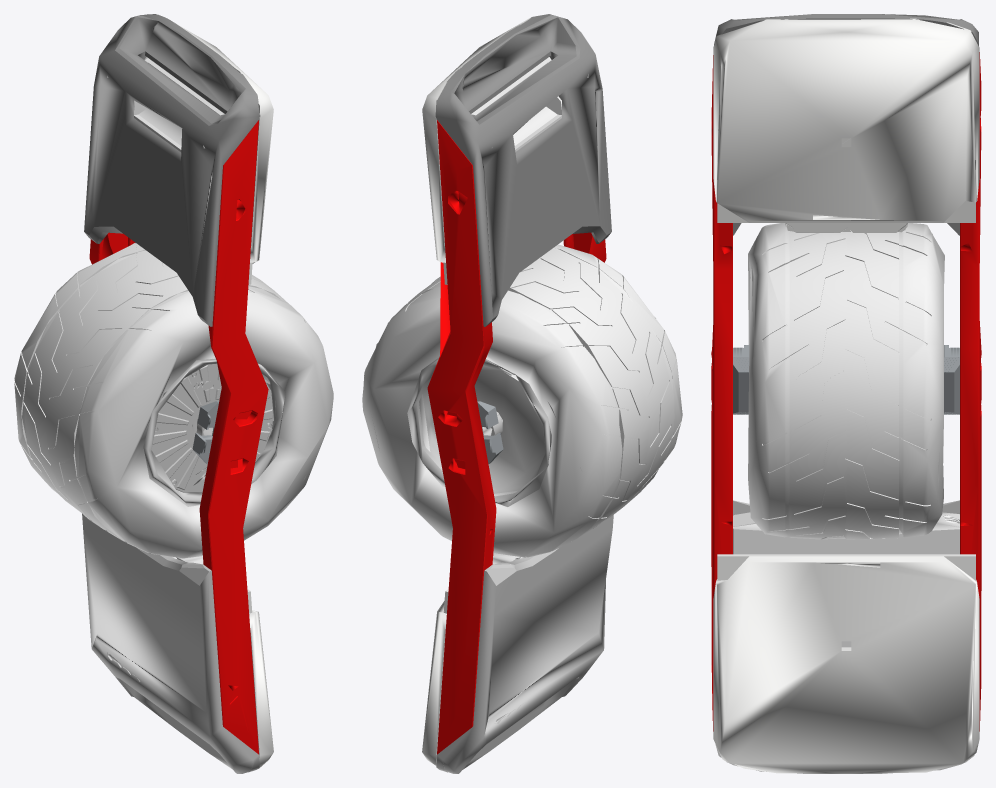
The model's file is x7_board.glb.
The picture shows the model from 3 angles, left to right: view 1: azimuth 30°, elevation 25°; view 2: azimuth 150°, elevation 25°; view 3: azimuth 270°, elevation 25°; orthographic projection. The views are drawn at different scales.
Parts seen in each view (by area): view 1: QDIY Thunder tire rough cad-1, Pjötr diy front DANG bumper model-1, X7 rail Left-1, qdiy rear dang bumper final touches needed-1, Superflux-1, 2025-09-29_stompie_front-2, qdiy stompie rear-1, V1 qdiy fungineers funwheel X7 Front Controller Box SOLIDWOR, New Mount SF-2, X7 rail Right-1; view 2: QDIY Thunder tire rough cad-1, Pjötr diy front DANG bumper model-1, X7 rail Right-1, qdiy rear dang bumper final touches needed-1, Superflux-1, 2025-09-29_stompie_front-2, qdiy stompie rear-1, V1 qdiy fungineers funwheel X7 Front Controller Box SOLIDWOR, New Mount SF-1, X7 rail Left-1; view 3: QDIY Thunder tire rough cad-1, qdiy stompie rear-1, 2025-09-29_stompie_front-2, X7 rail Left-1, X7 rail Right-1, fungineers x VOW blackbox lid-1, Pjötr diy front DANG bumper model-1, Fungi lid for controller box-1, New Mount SF-2, New Mount SF-1, qdiy rear dang bumper final touches needed-1, qdiy x7 blackbox-1.
Boxes of the visible parts, <box> form: QDIY Thunder tire rough cad-1: <box>14,243,333,558</box>; Pjötr diy front DANG bumper model-1: <box>84,14,260,326</box>; X7 rail Left-1: <box>199,120,268,754</box>; qdiy rear dang bumper final touches needed-1: <box>82,513,259,773</box>; Superflux-1: <box>143,358,285,506</box>; 2025-09-29_stompie_front-2: <box>144,14,273,284</box>; qdiy stompie rear-1: <box>247,589,273,768</box>; V1 qdiy fungineers funwheel X7 Front Controller Box SOLIDWOR: <box>134,57,224,152</box>; New Mount SF-2: <box>192,401,219,463</box>; X7 rail Right-1: <box>89,232,135,264</box>; QDIY Thunder tire rough cad-1: <box>362,244,682,557</box>; Pjötr diy front DANG bumper model-1: <box>435,14,611,326</box>; X7 rail Right-1: <box>427,120,496,754</box>; qdiy rear dang bumper final touches needed-1: <box>436,515,613,773</box>; Superflux-1: <box>407,357,551,506</box>; 2025-09-29_stompie_front-2: <box>422,18,530,284</box>; qdiy stompie rear-1: <box>422,589,448,765</box>; V1 qdiy fungineers funwheel X7 Front Controller Box SOLIDWOR: <box>471,57,561,151</box>; New Mount SF-1: <box>477,401,503,463</box>; X7 rail Left-1: <box>563,232,606,262</box>; QDIY Thunder tire rough cad-1: <box>748,223,944,539</box>; qdiy stompie rear-1: <box>713,554,979,773</box>; 2025-09-29_stompie_front-2: <box>713,18,979,222</box>; X7 rail Left-1: <box>711,55,732,731</box>; X7 rail Right-1: <box>960,52,981,731</box>; fungineers x VOW blackbox lid-1: <box>733,523,959,647</box>; Pjötr diy front DANG bumper model-1: <box>714,14,978,235</box>; Fungi lid for controller box-1: <box>785,138,907,232</box>; New Mount SF-2: <box>733,345,749,414</box>; New Mount SF-1: <box>944,345,959,414</box>; qdiy rear dang bumper final touches needed-1: <box>715,500,974,773</box>; qdiy x7 blackbox-1: <box>733,512,959,526</box>.
Size of the model in its own units: 0.2893 by 0.7561 by 0.2447.
